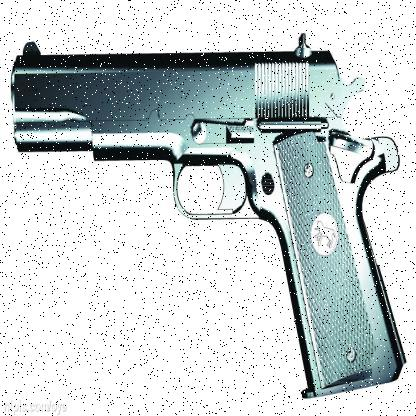pistol: (11, 31, 406, 399)
